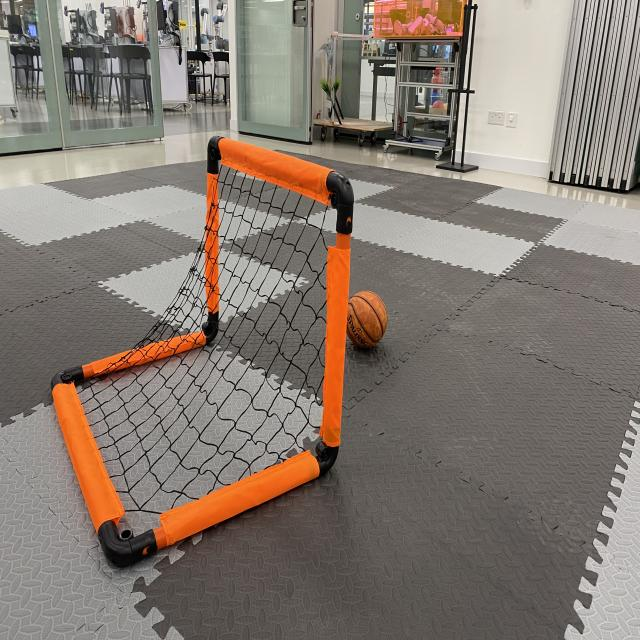ball: (339, 286, 392, 355)
gate: (44, 127, 362, 577)
